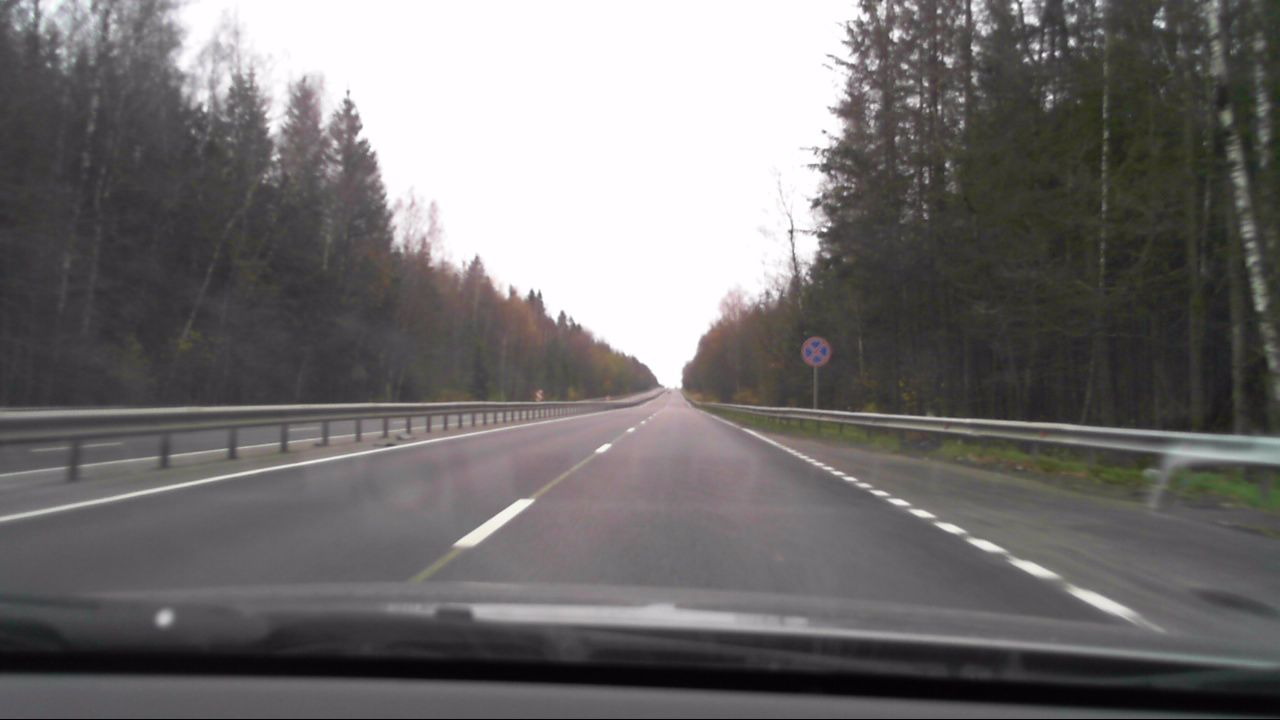No Parking: (800, 336, 832, 367)
